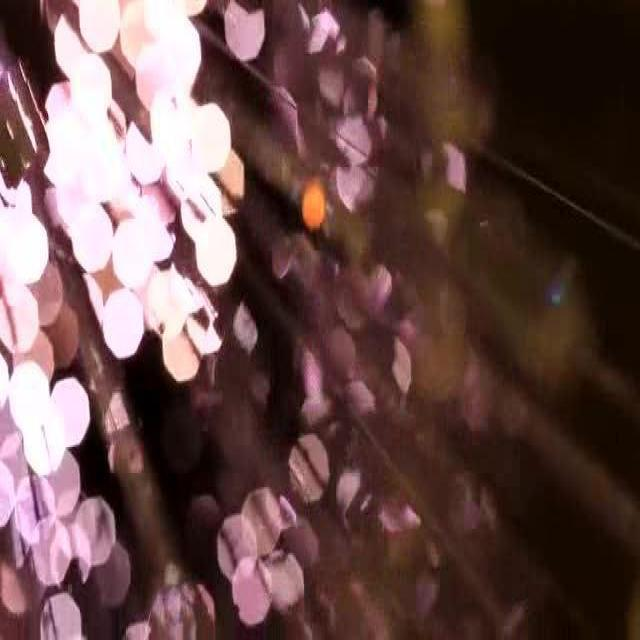other: (7, 10, 372, 611)
